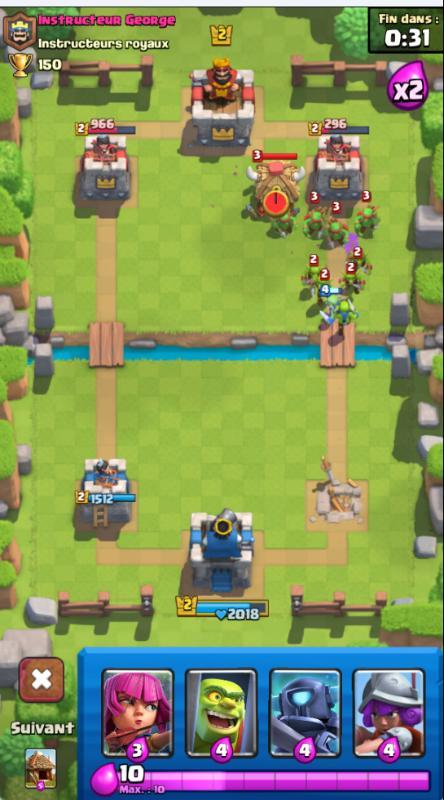enemy_goblin_hut: (239, 150, 307, 225)
enemy_spear_goblins: (351, 194, 385, 233), (340, 250, 373, 289), (321, 207, 352, 244), (300, 198, 330, 234), (344, 242, 374, 276), (265, 209, 299, 238), (297, 256, 326, 290)
player_goblins: (327, 296, 360, 330), (310, 275, 337, 304)
